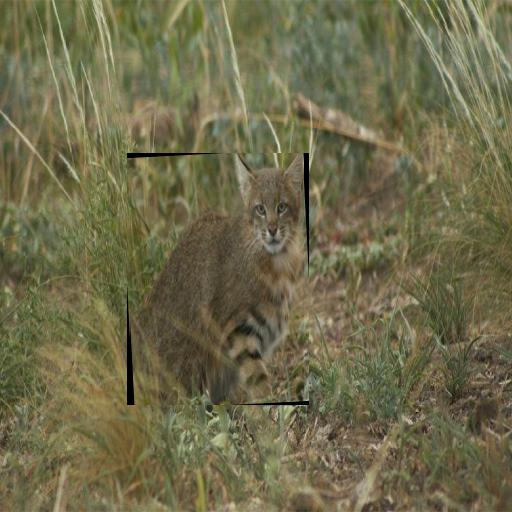cat: (130, 153, 303, 405)
